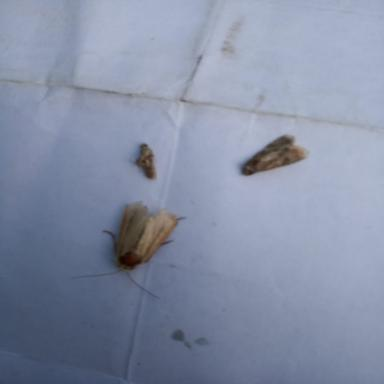pbw: (69, 198, 186, 299), (242, 133, 309, 175), (129, 142, 156, 180)
